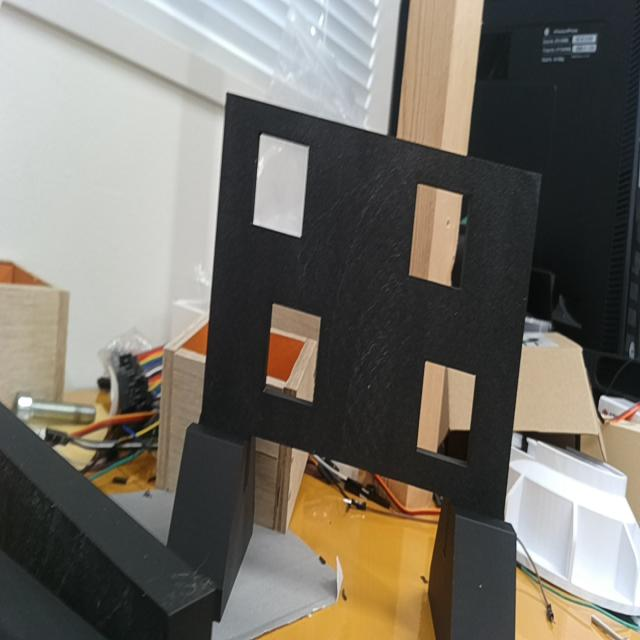Obstacle: (410, 182, 471, 290), (265, 301, 323, 409), (416, 361, 476, 465), (253, 134, 310, 237)
Wall: (202, 93, 542, 513)
